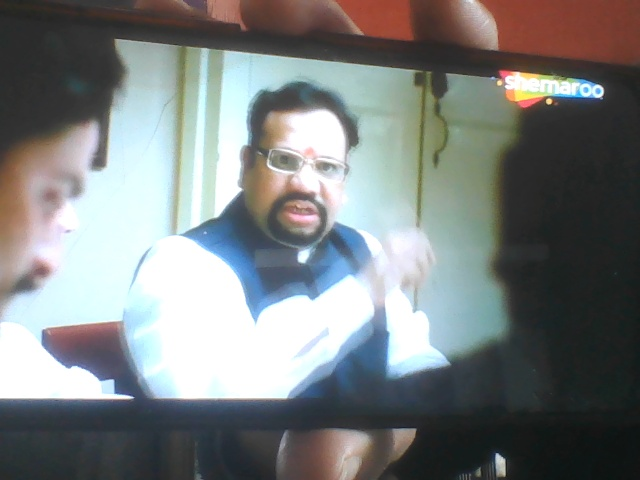fake: (230, 78, 354, 254)
